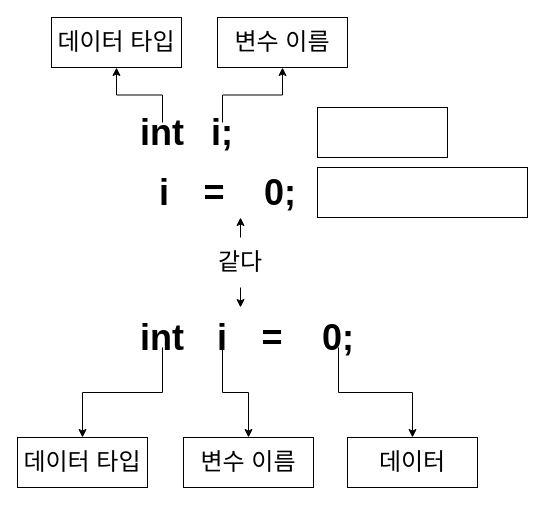
Some shapes in this 545 by 505 pixel diagram are drawn without their labels. The shapes that lost their labels are listed below. From the top down, each one's box as (x1, y1, x2, y2) in pixels, then its label:
(316, 106, 448, 158): 변수 선언
(316, 166, 528, 218): 변수에 데이터 저장
